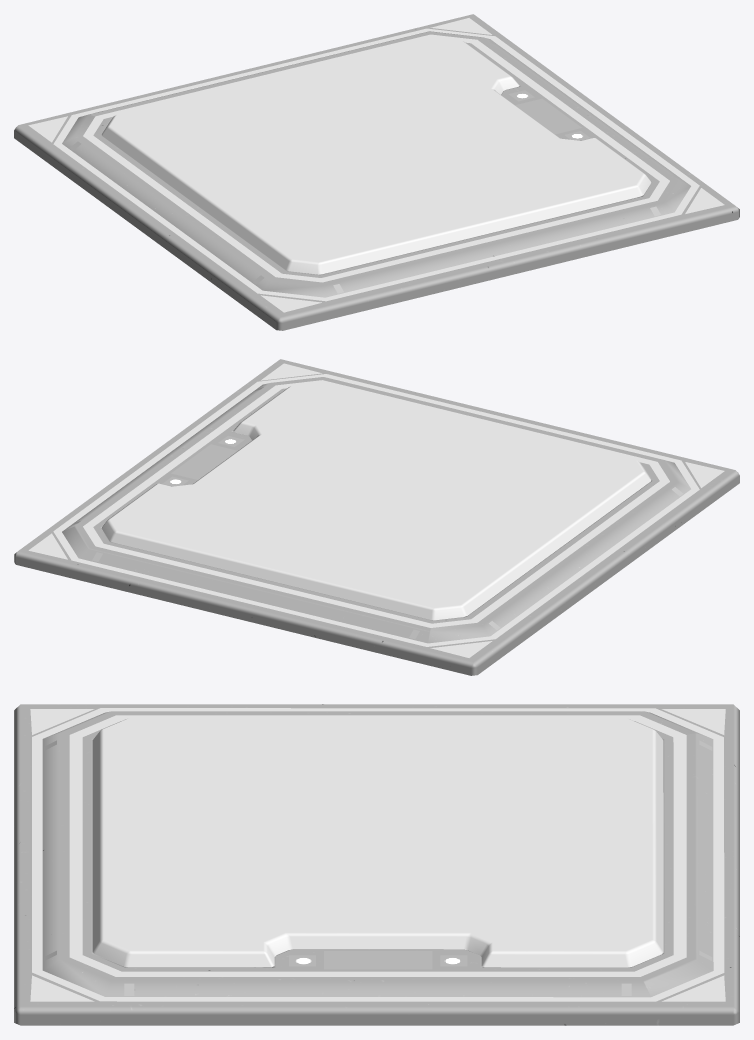
The model's file is SM_LightPanel.fbx.
3 renders of one model, top to bottom at view 1: azimuth 30°, elevation 25°; view 2: azimuth 150°, elevation 25°; view 3: azimuth 270°, elevation 25°, orthographic. The views are drawn at different scales.
Visible parts, largest first — view 1: SM_LightPanel_LOD0; view 2: SM_LightPanel_LOD0; view 3: SM_LightPanel_LOD0.
Part boxes in pixels (left/top/right/bottom): SM_LightPanel_LOD0: left=14, top=14, right=739, bottom=330; SM_LightPanel_LOD0: left=14, top=359, right=739, bottom=675; SM_LightPanel_LOD0: left=14, top=704, right=739, bottom=1025.
Size of the model in its own units: 275 by 274 by 15.66.
